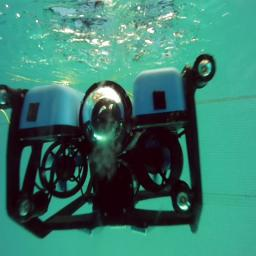front: (0, 53, 215, 239), (2, 52, 4, 53)
